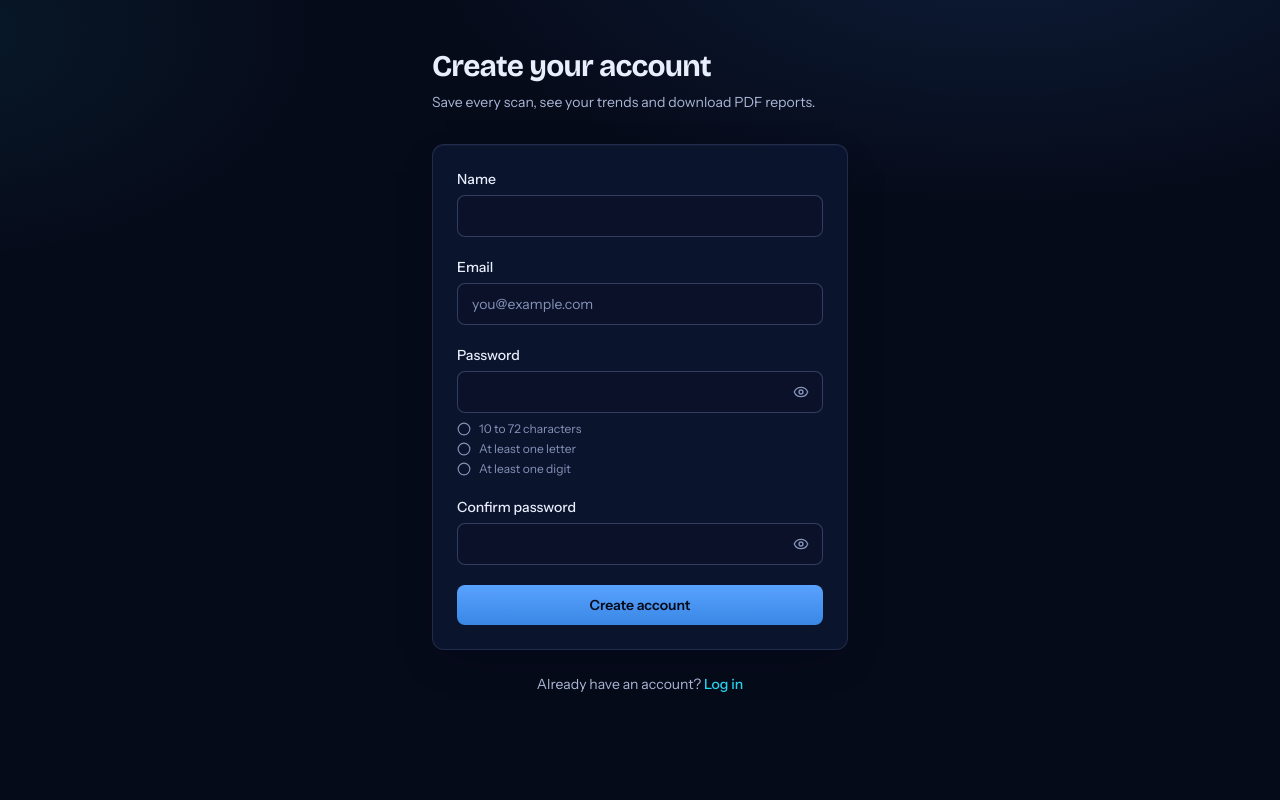
Scenario: RegisterPage › rejects a too-short name
Type "A" into the field labelled "Name".
click(640, 216); type("A")  # box [457,195,823,237]
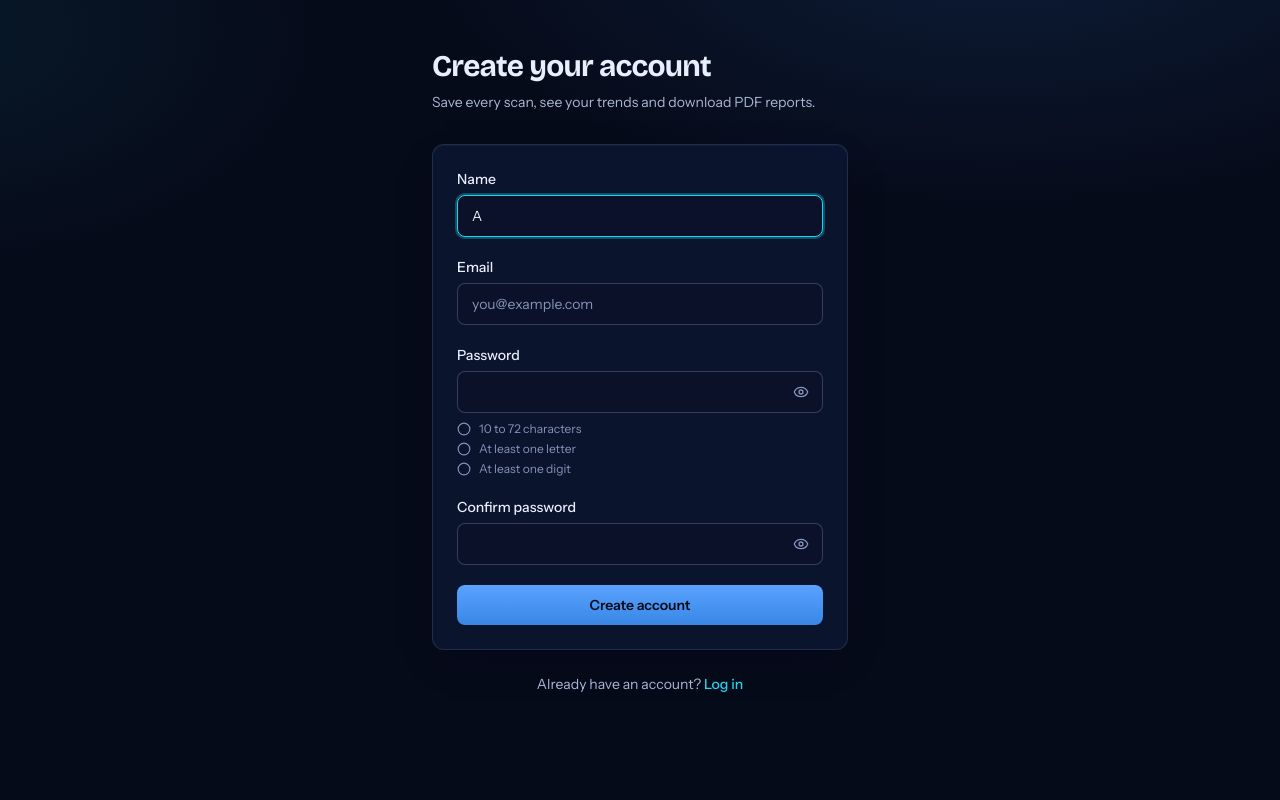
Type "ada@example.com" into the field labelled "Email".
click(640, 304); type("ada@example.com")  # box [457,283,823,325]
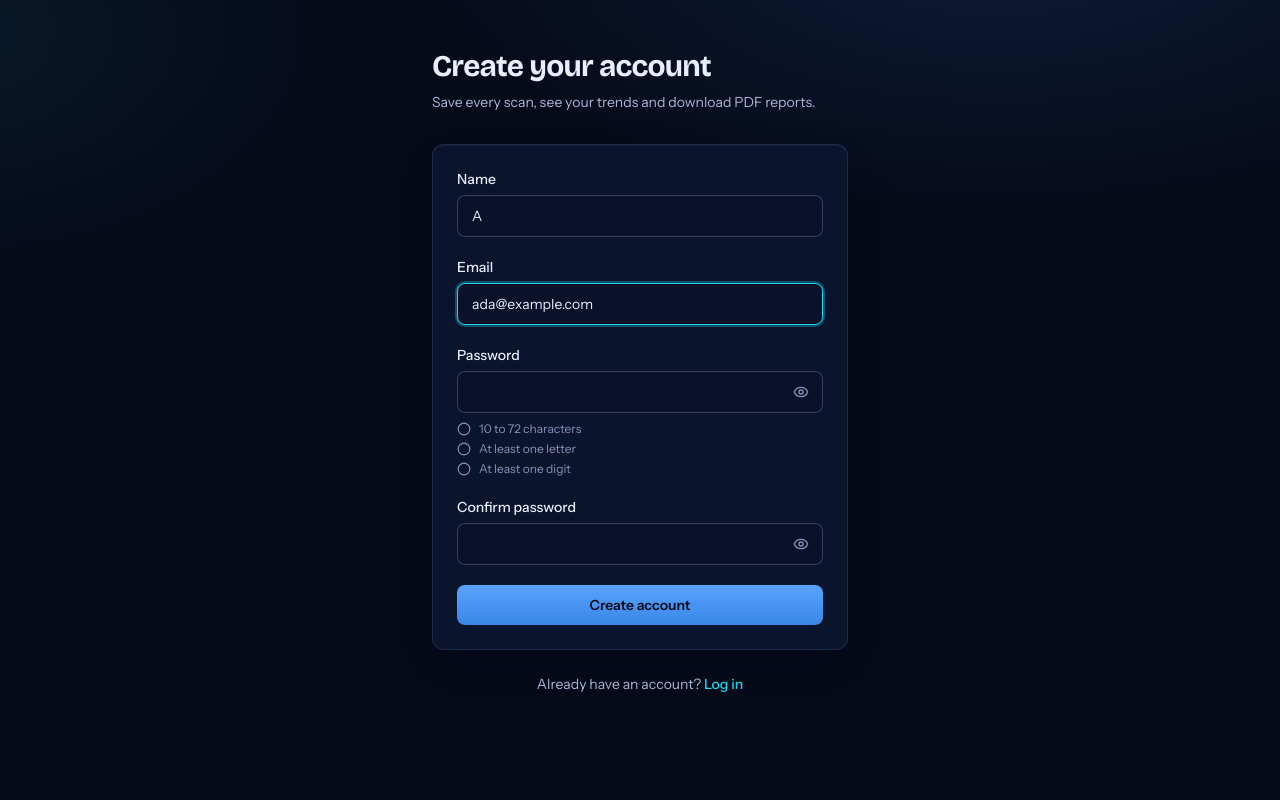
Type "a-strong-pass-1" into the password field labelled "Password".
click(640, 392); type("a-strong-pass-1")  # box [457,371,823,413]
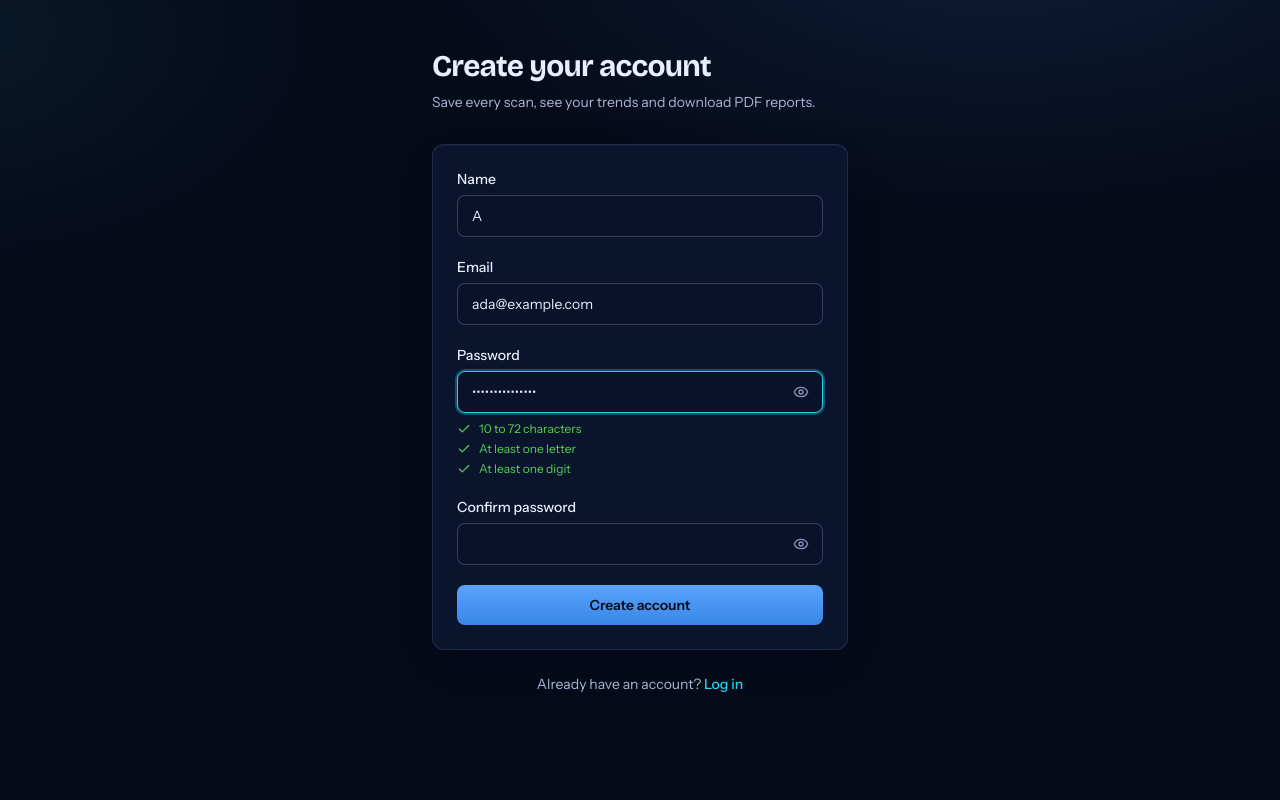
Type "a-strong-pass-1" into the password field labelled "Confirm password".
click(640, 544); type("a-strong-pass-1")  # box [457,523,823,565]
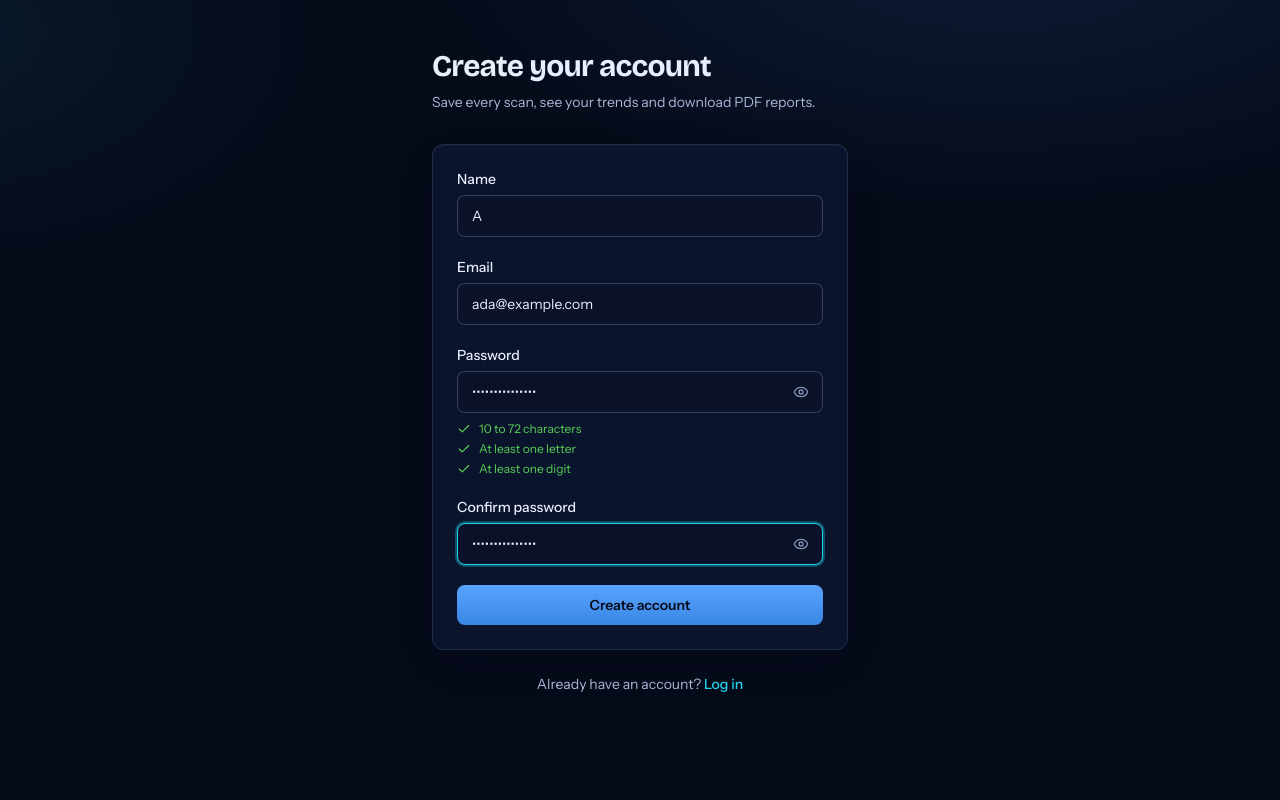
Click the button "Create account".
click(640, 605)  # box [457,585,823,625]
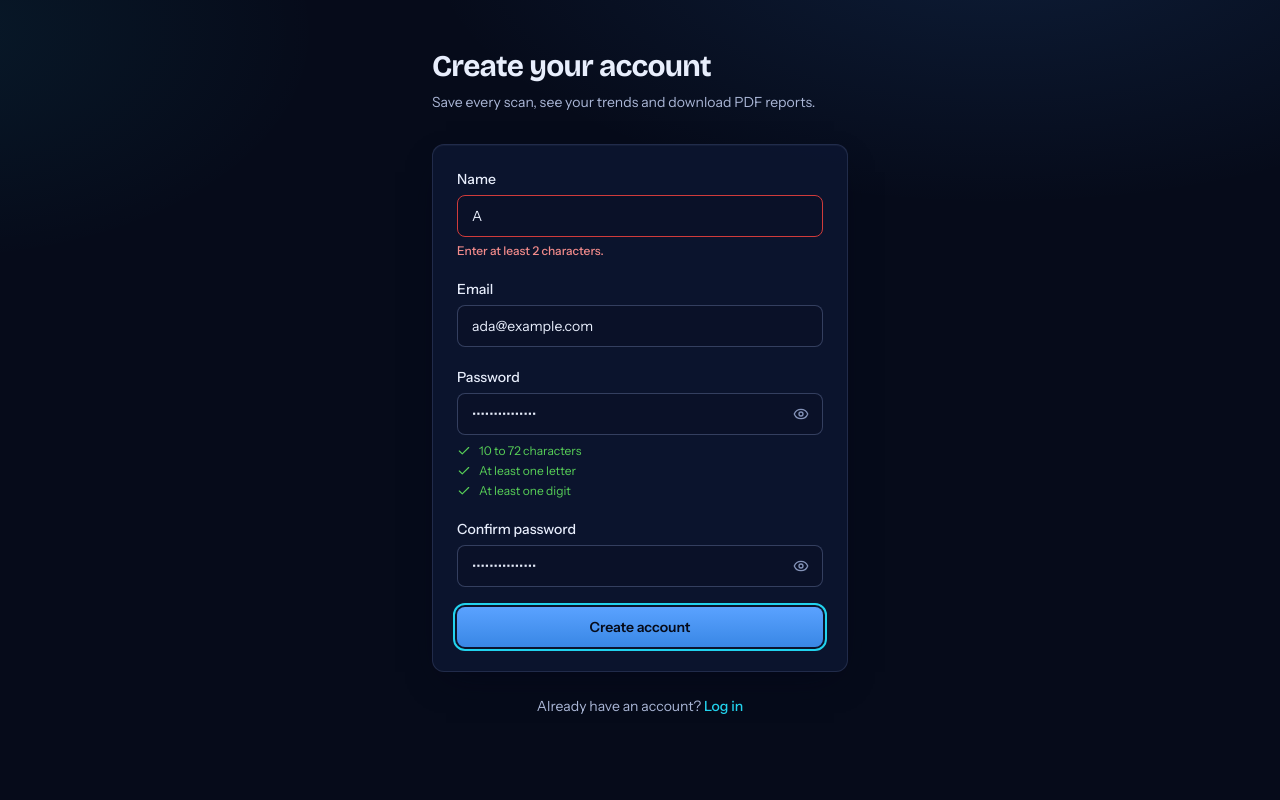
Now the text "Enter at least 2 characters." is shown, box [457,243,604,258]
